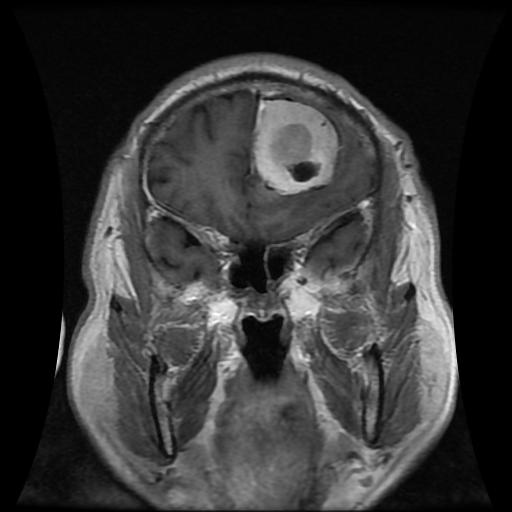Menigiomia_tumour: (253, 98, 337, 193)
